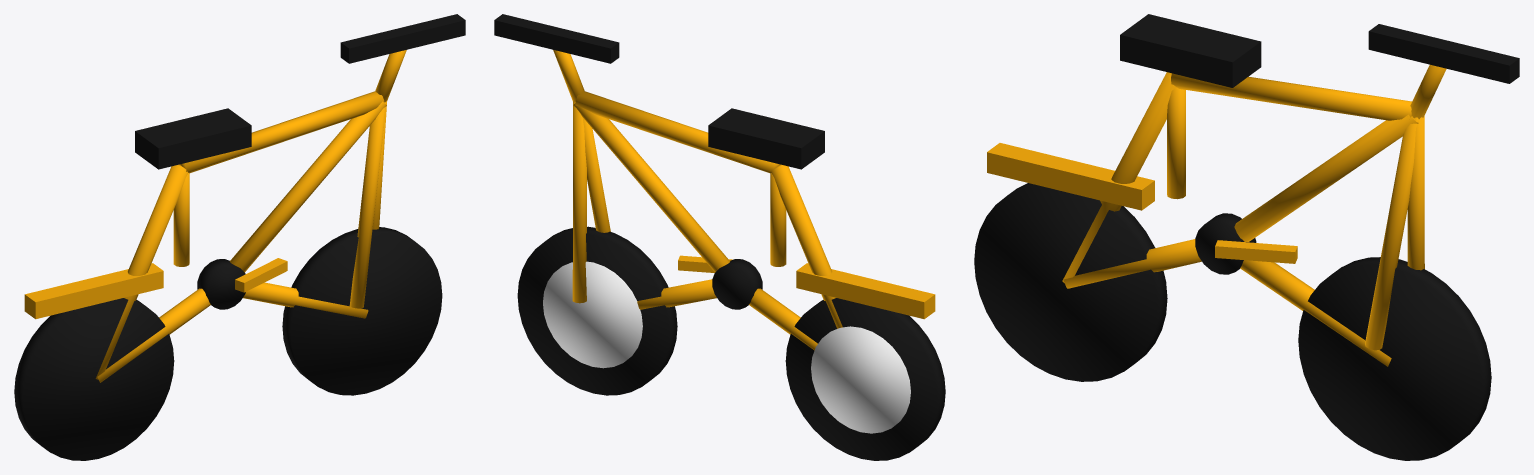
Rendered from prop_bicycle_yellow.glb.
The picture shows the model from 3 angles, left to right: view 1: azimuth 30°, elevation 25°; view 2: azimuth 150°, elevation 25°; view 3: azimuth 330°, elevation 25°; orthographic projection. The views are drawn at different scales.
Visible parts, largest first — view 1: bike rear wheel, bike front wheel, bike black seat, bike front tube, bike tiny rear fender, bike top tube, bike handlebar, bike front fork left, bike rear tube, bike lower tube, bike pedal hub, bike chain stay (+4 smaller); view 2: bike front wheel, bike rear wheel, bike rear wheel inner, bike front wheel inner, bike black seat, bike front tube, bike tiny rear fender, bike top tube, bike handlebar, bike front fork right, bike rear tube, bike pedal hub (+6 smaller); view 3: bike front wheel, bike rear wheel, bike black seat, bike tiny rear fender, bike top tube, bike front tube, bike handlebar, bike front fork left, bike rear tube, bike chain stay, bike lower tube, bike front fork right (+4 smaller).
Boxes of the visible parts, x1,y1,x2,y2 form: bike rear wheel: (14, 298, 174, 460); bike front wheel: (282, 227, 442, 395); bike black seat: (135, 108, 251, 169); bike front tube: (229, 101, 386, 272); bike tiny rear fender: (24, 263, 163, 319); bike top tube: (179, 91, 384, 173); bike handlebar: (340, 14, 465, 63); bike front fork left: (349, 101, 386, 308); bike rear tube: (95, 164, 188, 379); bike lower tube: (97, 288, 210, 382); bike pedal hub: (197, 259, 245, 309); bike chain stay: (243, 282, 368, 318); bike front wheel: (517, 226, 677, 395); bike rear wheel: (785, 298, 945, 460); bike rear wheel inner: (811, 326, 910, 433); bike front wheel inner: (543, 261, 642, 368); bike black seat: (708, 108, 824, 169); bike front tube: (573, 103, 730, 272); bike tiny rear fender: (796, 263, 935, 319); bike top tube: (575, 91, 780, 173); bike handlebar: (494, 14, 619, 63); bike front fork right: (572, 100, 586, 303); bike rear tube: (771, 164, 842, 328); bike pedal hub: (712, 259, 762, 309); bike front wheel: (1298, 257, 1491, 460); bike rear wheel: (974, 183, 1167, 381); bike black seat: (1120, 14, 1261, 87); bike tiny rear fender: (987, 143, 1154, 210); bike top tube: (1171, 73, 1411, 120); bike front tube: (1234, 114, 1418, 241); bike handlebar: (1368, 24, 1519, 83); bike front fork left: (1365, 116, 1422, 350); bike rear tube: (1062, 72, 1175, 282); bike chain stay: (1240, 260, 1391, 366); bike lower tube: (1063, 239, 1201, 288); bike front fork right: (1407, 116, 1424, 270).
Size of the model in its own units: 0.76 by 0.5725 by 0.0806.
